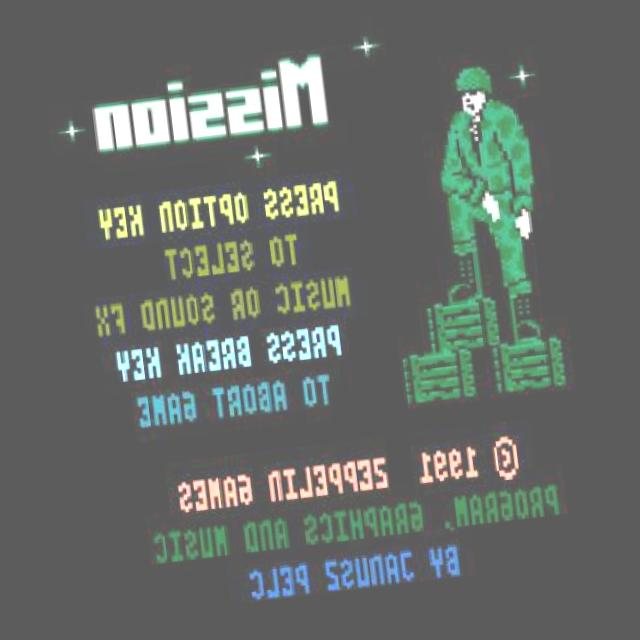Person: (427, 60, 553, 349)
